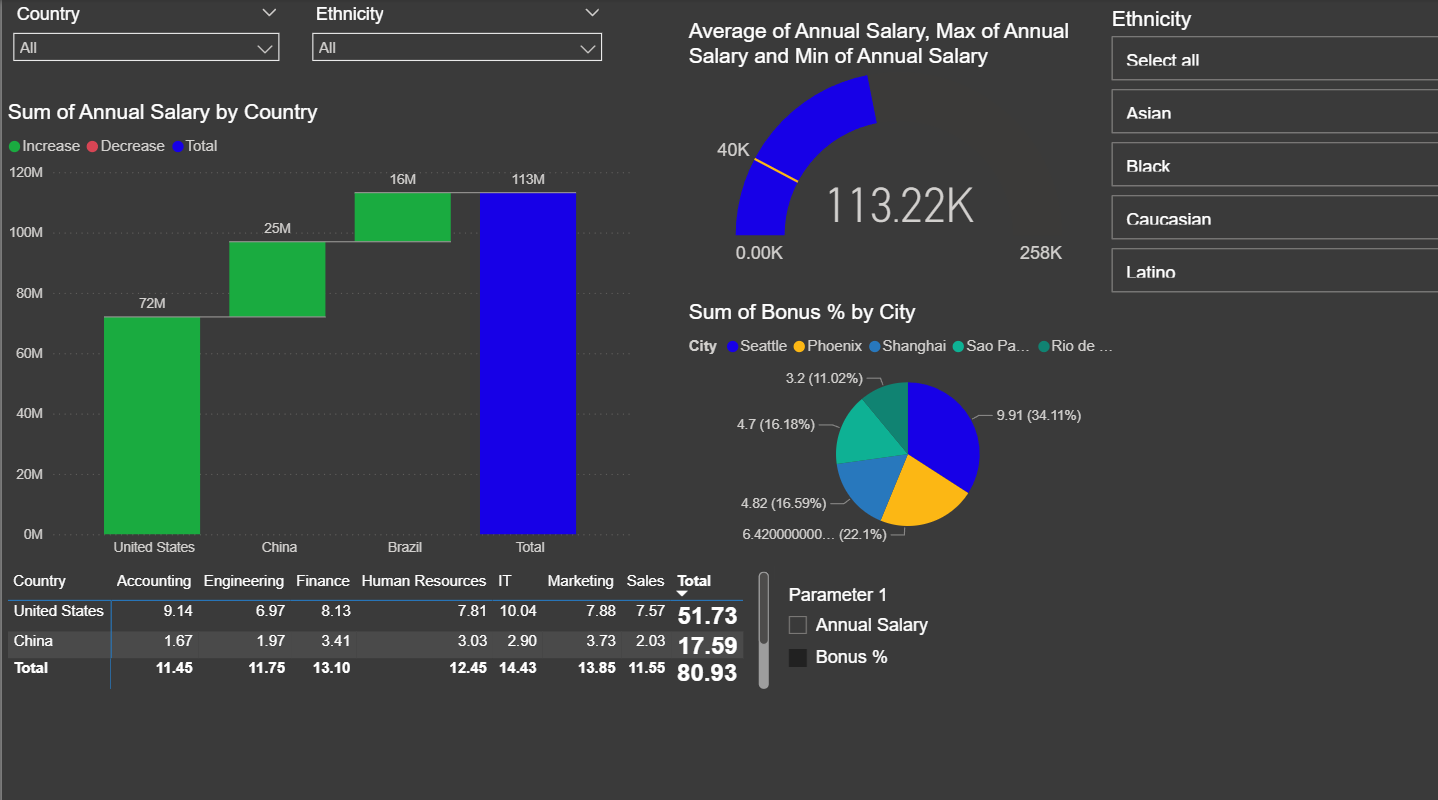

This screenshot's page, from the dashboard's own definition file:
{"tool":"powerbi","page":{"name":"Page 4","canvas":[1280,720],"ordinal":2},"visuals":[{"type":"waterfallChart","fields":{"Category":["Data.Country"],"Y":["Sum(annual salary.Annual Salary)"]},"box":[0,89.5,562.2,413.4],"z":0},{"type":"gauge","fields":{"Y":["Avg(annual salary.Annual Salary)"],"MaxValue":["Max(annual salary.Annual Salary)1"],"TargetValue":["Min(annual salary.Annual Salary)2"]},"box":[604,17.5,363.8,223.7],"z":1000},{"type":"slicer","fields":{"Values":["Data.Country"]},"box":[0,0,255.8,68.1],"z":2000},{"type":"slicer","fields":{"Values":["Data.Ethnicity"]},"box":[265.5,0,277.2,60.3],"z":3000},{"type":"pivotTable","fields":{"Rows":["Data.Country"],"Values":["Sum(Data.Bonus %)"],"Columns":["Department.Department"]},"box":[0,502.9,684.7,113.8],"z":4000},{"type":"pieChart","fields":{"Y":["Sum(Data.Bonus %)"],"Category":["Data.City"]},"box":[604,266.5,398.8,223.7],"z":5000},{"type":"advancedSlicerVisual","fields":{"Values":["Data.Ethnicity"]},"box":[978.5,6.8,301.5,259.7],"z":6000},{"type":"slicer","fields":{"Values":["Parameter 1.Parameter 1"]},"box":[684.7,515.5,318.1,137.1],"z":7000}]}

Visuals, with their boxes in screenshot pixels (x1, y1, x2, y2), scaled from the page's 1280x720 canvas onto the 1438x800 screenshot:
waterfallChart - Data.Country x Sum(annual salary.Annual Salary): detection(0, 99, 632, 559)
gauge - Avg(annual salary.Annual Salary) x Max(annual salary.Annual Salary)1: detection(679, 19, 1087, 268)
slicer - Data.Country: detection(0, 0, 287, 76)
slicer - Data.Ethnicity: detection(298, 0, 610, 67)
pivotTable - Data.Country x Sum(Data.Bonus %): detection(0, 559, 769, 685)
pieChart - Sum(Data.Bonus %) x Data.City: detection(679, 296, 1127, 545)
advancedSlicerVisual - Data.Ethnicity: detection(1099, 8, 1437, 296)
slicer - Parameter 1.Parameter 1: detection(769, 573, 1127, 725)
